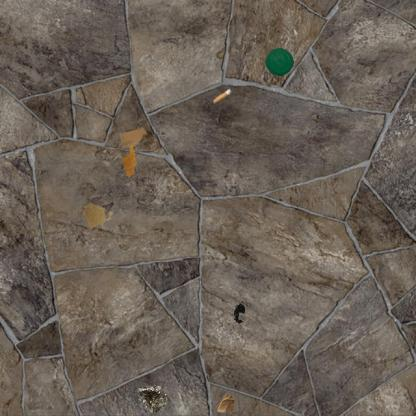dirty: (137, 384, 169, 416), (264, 46, 296, 78), (118, 126, 150, 150), (216, 392, 236, 415), (231, 301, 247, 326), (212, 88, 233, 103)
liquid: (82, 202, 114, 230), (120, 146, 138, 176)
